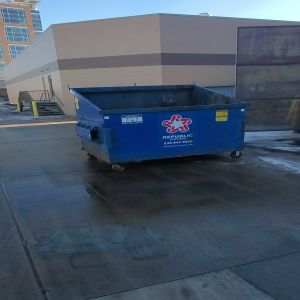Dumpster: (67, 84, 253, 170)
